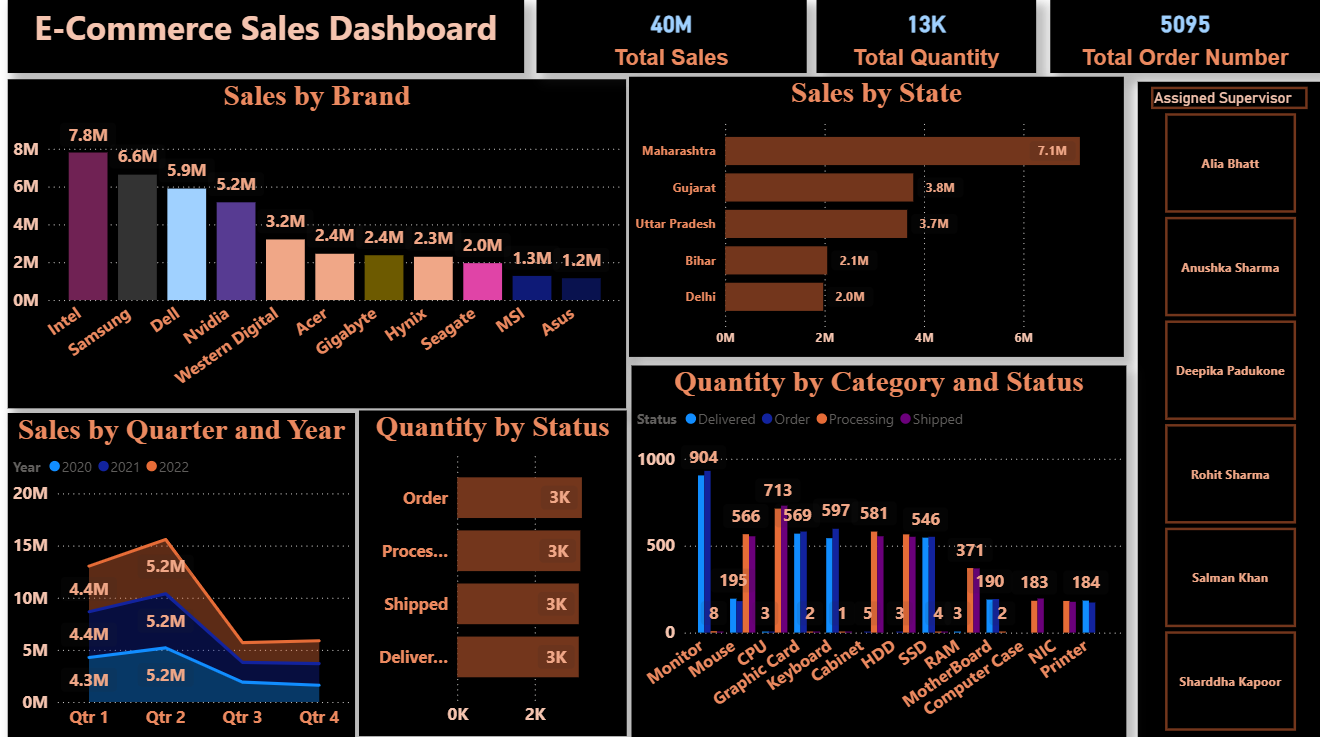

The dashboard page shown, as its layout file describes it:
{"tool":"powerbi","page":{"name":"Page 1","canvas":[1280,720],"ordinal":0},"visuals":[{"type":"textbox","box":[13.3,6,498.3,71.2],"z":0},{"type":"clusteredColumnChart","fields":{"Category":["Data_sales.Brand"],"Y":["Sum(Data_sales.Sales)"]},"box":[13.3,83.2,597.2,317.3],"z":1000},{"type":"stackedAreaChart","fields":{"Category":["Data_sales.Order_Date.Variation.Date Hierarchy.Quarter"],"Y":["Sum(Data_sales.Sales)"],"Series":["Data_sales.Order_Date.Variation.Date Hierarchy.Year"]},"box":[13.3,405.4,335.4,314.9],"z":2000},{"type":"card","fields":{"Values":["Sum(Data_sales.Sales)"]},"box":[523.2,5.6,260.5,71.2],"z":4000},{"type":"card","fields":{"Values":["Sum(Data_sales.Quantity)"]},"box":[793.8,6,212.3,71.2],"z":5000},{"type":"card","fields":{"Values":["CountNonNull(Data_sales.Order_Number)"]},"box":[1019.4,6,260.6,71.2],"z":6000},{"type":"clusteredBarChart","fields":{"Category":["list_state.State"],"Y":["Sum(Data_sales.Sales)"]},"box":[612.9,80.8,477.8,270.2],"z":7000},{"type":"slicer","fields":{"Values":["Data_sales.Assigned Supervisor"]},"box":[1103.5,86,176.7,633.7],"z":8000},{"type":"barChart","fields":{"Category":["Data_sales.Status"],"Y":["Sum(Data_sales.Quantity)"]},"box":[352.3,403,258.2,314.9],"z":9000},{"type":"clusteredColumnChart","fields":{"Category":["Data_sales.Category"],"Y":["Sum(Data_sales.Quantity)"],"Series":["Data_sales.Status"]},"box":[615.3,359.5,477.8,360.7],"z":10000}]}

Visuals, with their boxes in screenshot pixels (x1, y1, x2, y2), scaled from the page's 1280x720 canvas onto the 1320x737 screenshot:
textbox: (14, 6, 528, 79)
clusteredColumnChart - Data_sales.Brand x Sum(Data_sales.Sales): (14, 85, 630, 410)
stackedAreaChart - Data_sales.Order_Date.Variation.Date Hierarchy.Quarter x Sum(Data_sales.Sales): (14, 415, 360, 736)
card - Sum(Data_sales.Sales): (540, 6, 808, 79)
card - Sum(Data_sales.Quantity): (819, 6, 1038, 79)
card - CountNonNull(Data_sales.Order_Number): (1051, 6, 1319, 79)
clusteredBarChart - list_state.State x Sum(Data_sales.Sales): (632, 83, 1125, 359)
slicer - Data_sales.Assigned Supervisor: (1138, 88, 1319, 736)
barChart - Data_sales.Status x Sum(Data_sales.Quantity): (363, 413, 630, 735)
clusteredColumnChart - Data_sales.Category x Sum(Data_sales.Quantity): (635, 368, 1127, 736)
